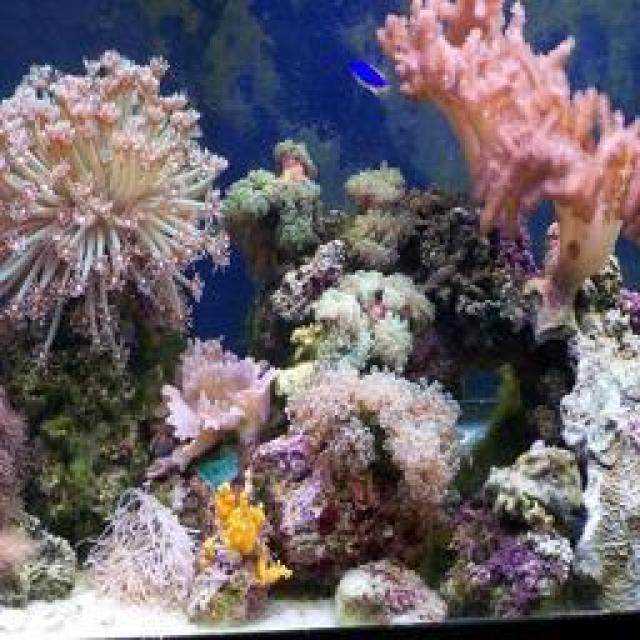fish: (349, 61, 392, 97)
reefs: (378, 1, 638, 341), (0, 48, 232, 367), (240, 362, 465, 585), (560, 308, 638, 614), (445, 447, 583, 614), (277, 273, 434, 391), (162, 334, 281, 472), (73, 487, 202, 611), (199, 480, 294, 587), (0, 386, 45, 603), (339, 561, 450, 625)
